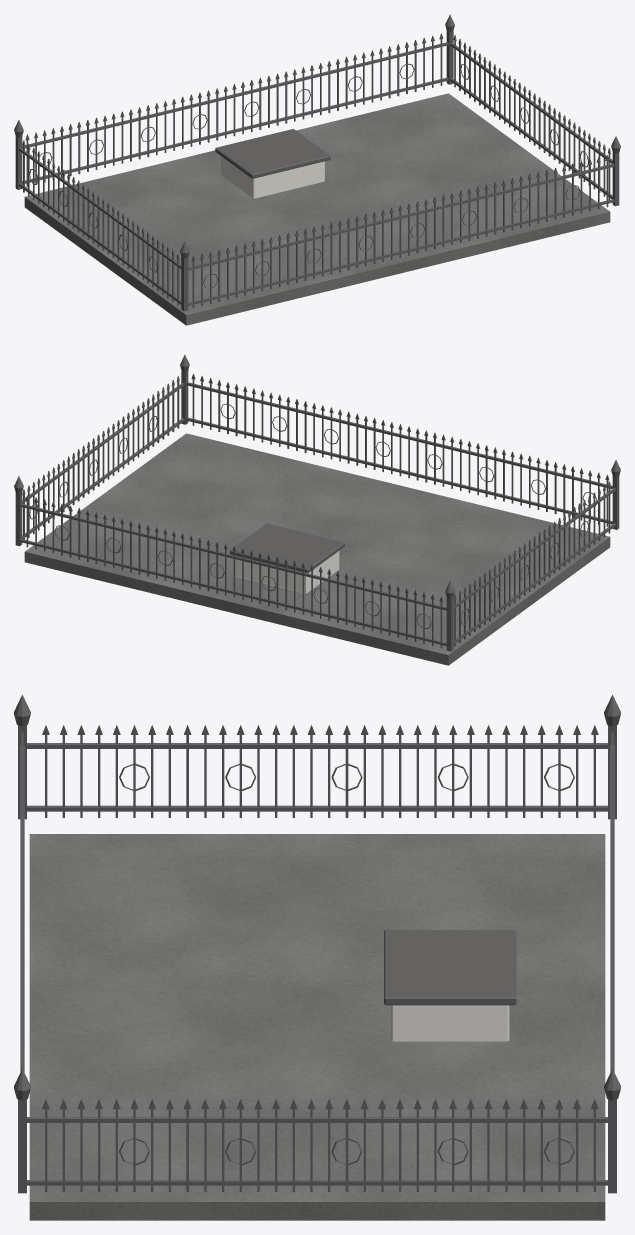
File: roof_deck.glb
3 renders of one model, top to bottom at view 1: azimuth 30°, elevation 25°; view 2: azimuth 150°, elevation 25°; view 3: azimuth 270°, elevation 25°, orthographic. The views are drawn at different scales.
Parts seen in each view (by area): view 1: roof_deck_membrane, roof_deck_iron, roof_deck_dark, roof_deck_trim; view 2: roof_deck_membrane, roof_deck_iron, roof_deck_dark, roof_deck_trim; view 3: roof_deck_membrane, roof_deck_iron, roof_deck_dark, roof_deck_trim.
Boxes of the visible parts, box(x1,y1,x2,y2) form: roof_deck_membrane: box(24, 93, 610, 325); roof_deck_iron: box(14, 14, 620, 311); roof_deck_dark: box(215, 129, 330, 178); roof_deck_trim: box(221, 156, 324, 198); roof_deck_membrane: box(24, 433, 610, 665); roof_deck_iron: box(14, 354, 620, 651); roof_deck_dark: box(229, 523, 344, 573); roof_deck_trim: box(235, 551, 339, 593); roof_deck_membrane: box(29, 834, 605, 1220); roof_deck_iron: box(14, 695, 620, 1193); roof_deck_dark: box(384, 930, 516, 1005); roof_deck_trim: box(391, 1005, 509, 1042).
Size of the model in its own units: 6.12 by 1.16 by 4.11.
4 materials, 1 textured.
